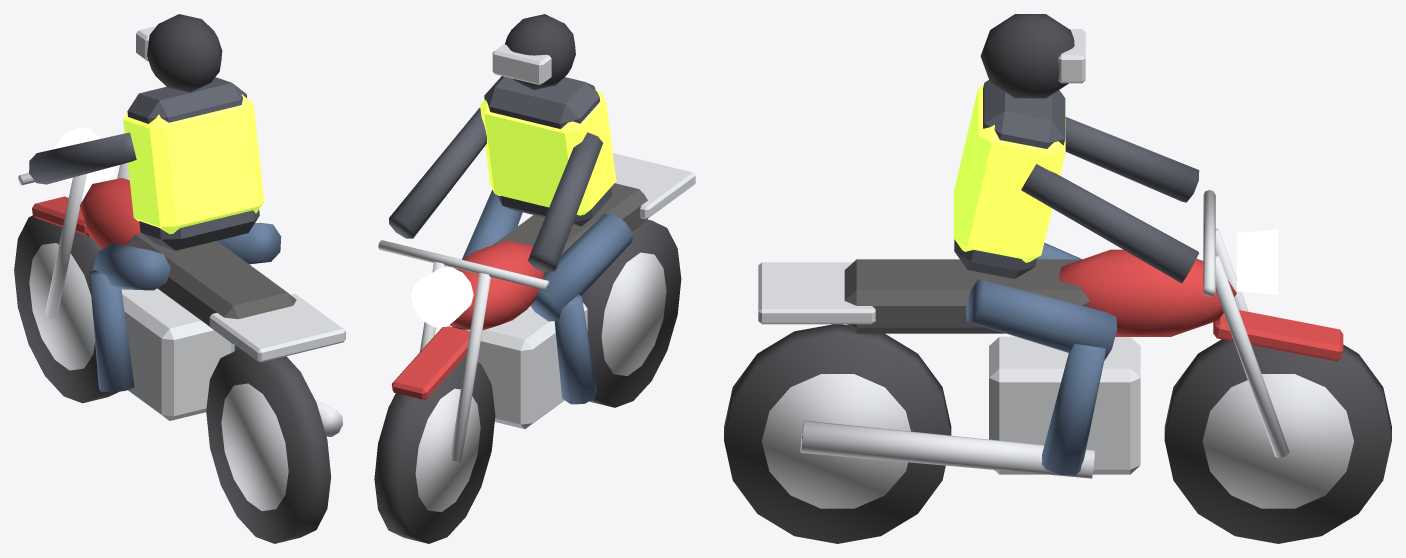
File: Kenya_BodaBoda_Rider.glb
The picture shows the model from 3 angles, left to right: view 1: azimuth 30°, elevation 25°; view 2: azimuth 150°, elevation 25°; view 3: azimuth 270°, elevation 25°; orthographic projection. The views are drawn at different scales.
Parts seen in each view (by area): view 1: ReflectVest, RearWheel_Tire, EngineBlock, LongSeat, RearWheel_Rim, FrontWheel_Tire, RiderTorso, FrontWheel_Rim, RearRack, Helmet, Shin_-1, Arm_-1 (+7 smaller); view 2: FrontWheel_Tire, ReflectVest, EngineBlock, RearWheel_Tire, RearWheel_Rim, RiderTorso, FrontWheel_Rim, Thigh_-1, Arm_1, FuelTank, Arm_-1, Shin_-1 (+9 smaller); view 3: RearWheel_Tire, FrontWheel_Tire, FrontWheel_Rim, EngineBlock, RearWheel_Rim, LongSeat, ReflectVest, FuelTank, ExhaustPipe, Thigh_1, Arm_1, RearRack (+9 smaller).
Boxes of the visible parts, x1,y1,x2,y2 form: ReflectVest: [123, 94, 263, 234]; RearWheel_Tire: [206, 349, 331, 543]; EngineBlock: [121, 288, 234, 420]; LongSeat: [127, 233, 296, 343]; RearWheel_Rim: [221, 383, 288, 510]; FrontWheel_Tire: [14, 215, 118, 403]; RiderTorso: [127, 77, 259, 250]; FrontWheel_Rim: [29, 243, 94, 370]; RearRack: [209, 293, 345, 362]; Helmet: [147, 14, 222, 92]; Shin_-1: [89, 270, 134, 392]; Arm_-1: [29, 132, 136, 184]; FrontWheel_Tire: [374, 356, 495, 543]; ReflectVest: [480, 89, 616, 215]; EngineBlock: [465, 303, 587, 429]; RearWheel_Tire: [581, 219, 681, 407]; RearWheel_Rim: [601, 252, 666, 375]; RiderTorso: [484, 76, 612, 226]; FrontWheel_Rim: [415, 388, 480, 512]; Thigh_-1: [530, 213, 632, 321]; Arm_1: [389, 107, 487, 238]; FuelTank: [450, 240, 544, 330]; Arm_-1: [528, 132, 602, 272]; Shin_-1: [554, 294, 596, 404]; RearWheel_Tire: [724, 324, 951, 543]; FrontWheel_Tire: [1164, 339, 1391, 543]; FrontWheel_Rim: [1202, 374, 1353, 508]; EngineBlock: [989, 336, 1140, 474]; RearWheel_Rim: [762, 374, 910, 508]; LongSeat: [844, 259, 1089, 333]; ReflectVest: [954, 85, 1065, 262]; FuelTank: [1059, 249, 1236, 336]; ExhaustPipe: [800, 420, 1094, 478]; Thigh_1: [965, 279, 1117, 360]; Arm_1: [1021, 164, 1198, 283]; RearRack: [758, 262, 875, 324].
Bounding box in the file's own units: 0.6711 × 1.67 × 1.94.
